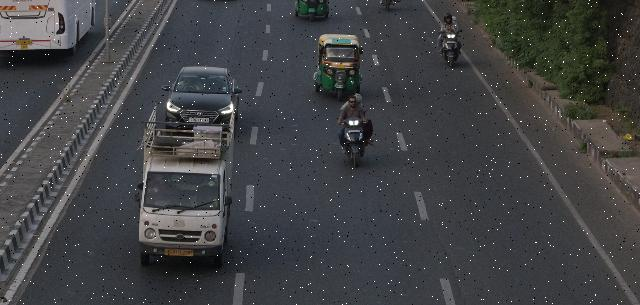With Helmet: (442, 13, 452, 24)
Without Helmet: (354, 93, 364, 107), (348, 96, 357, 108), (452, 16, 456, 24)
